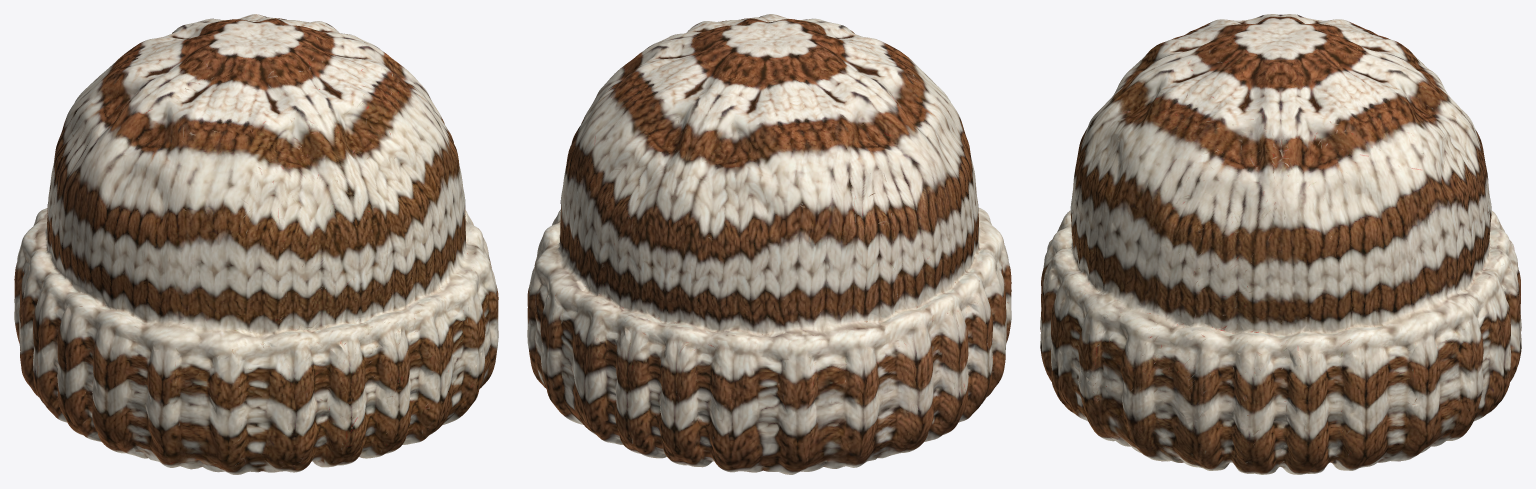
File: raw.glb
The picture shows the model from 3 angles, left to right: view 1: azimuth 30°, elevation 25°; view 2: azimuth 150°, elevation 25°; view 3: azimuth 270°, elevation 25°; orthographic projection.
Visible parts, largest first — view 1: Mesh_0; view 2: Mesh_0; view 3: Mesh_0.
Part boxes in pixels (box(x1,y1,x2,y2)): Mesh_0: box(14, 14, 498, 474); Mesh_0: box(527, 14, 1011, 474); Mesh_0: box(1040, 14, 1521, 474).
Bounding box in the file's own units: 1.91 × 1.56 × 1.91.
Materials: 1 (1 with a texture image).
